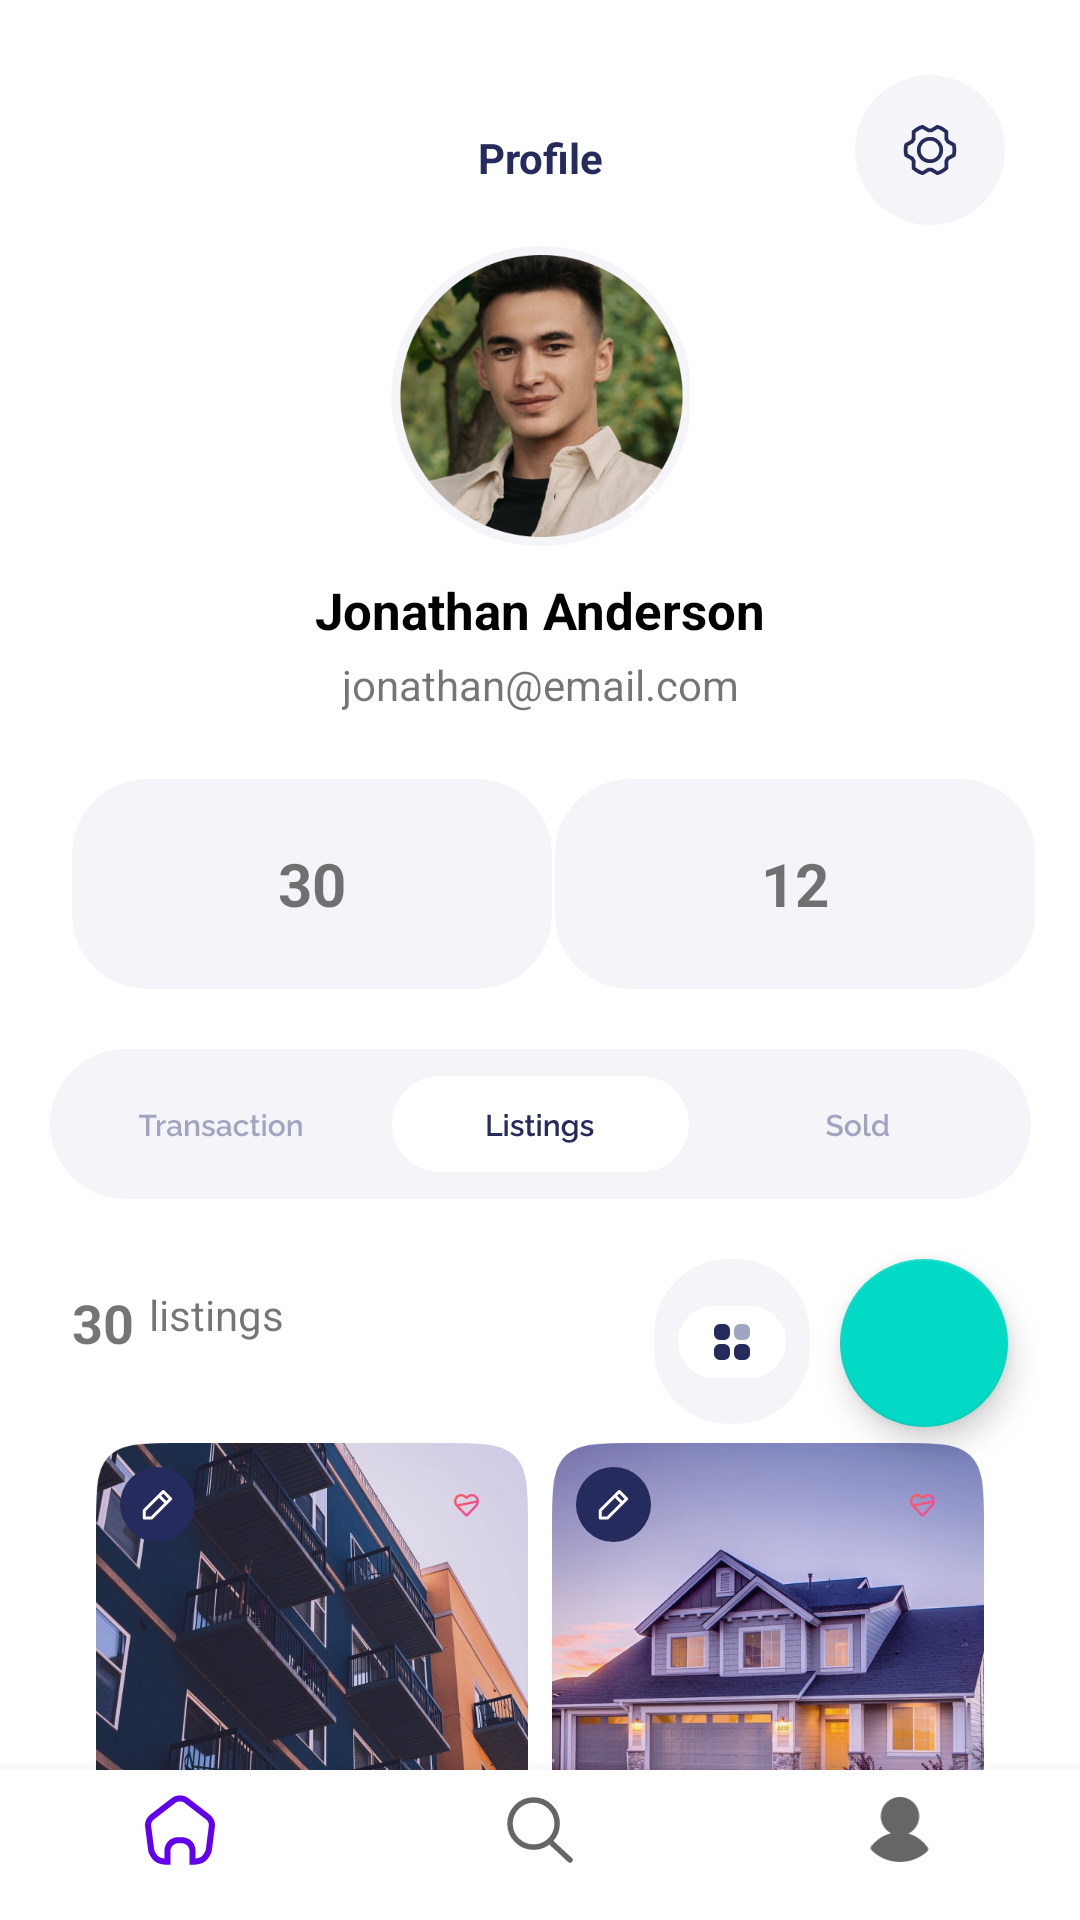

Screen size 1080×1920. Icon name, then its box in pixels as (x1, y1, x2, y2):
setting: (855, 75, 1005, 225)
